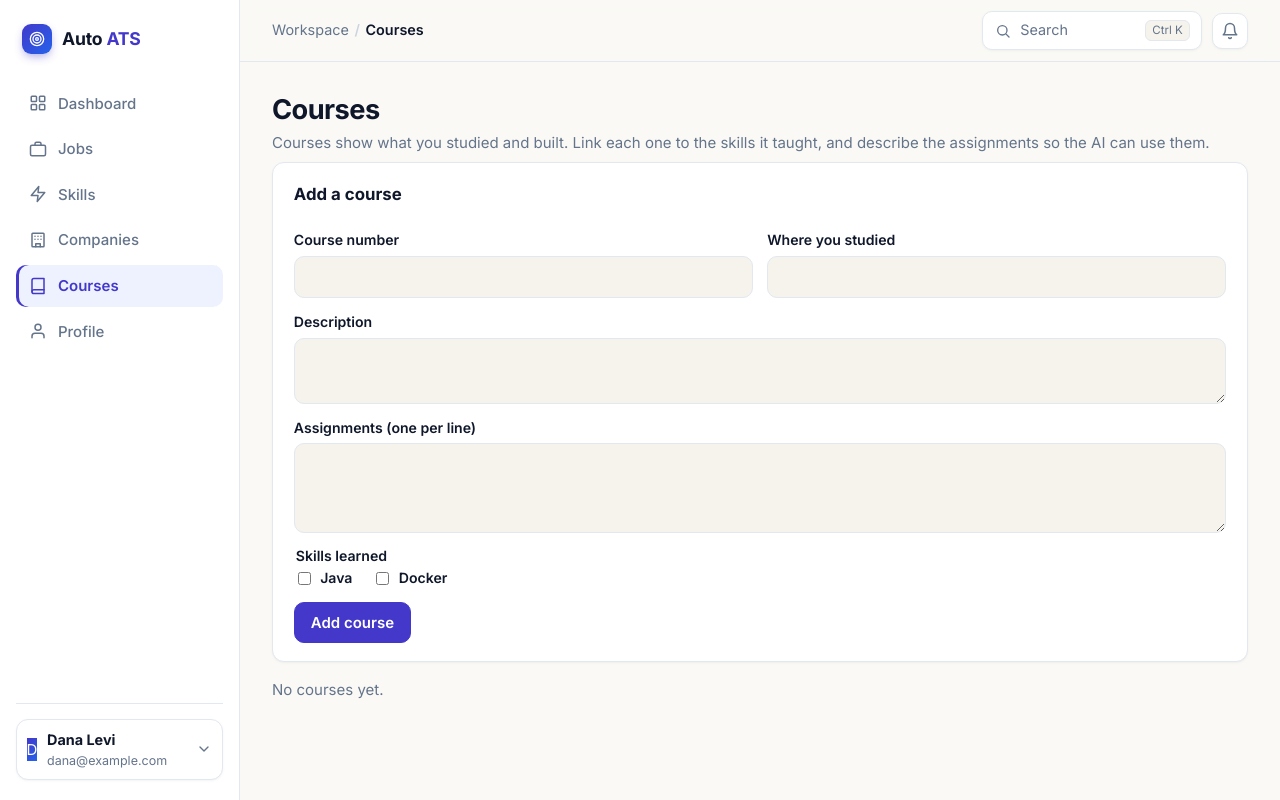
Test: CoursesPage › GivenBlankCourseNumber_WhenAdding_ThenErrorIsShownAndNothingIsSent
Check: the text "No courses yet." is shown, box [272,680,384,699]
What coordinates should you click on to do the following:
click the button "Add course"
I would click on:
 (352, 623)
Its box is [294,602,411,643].
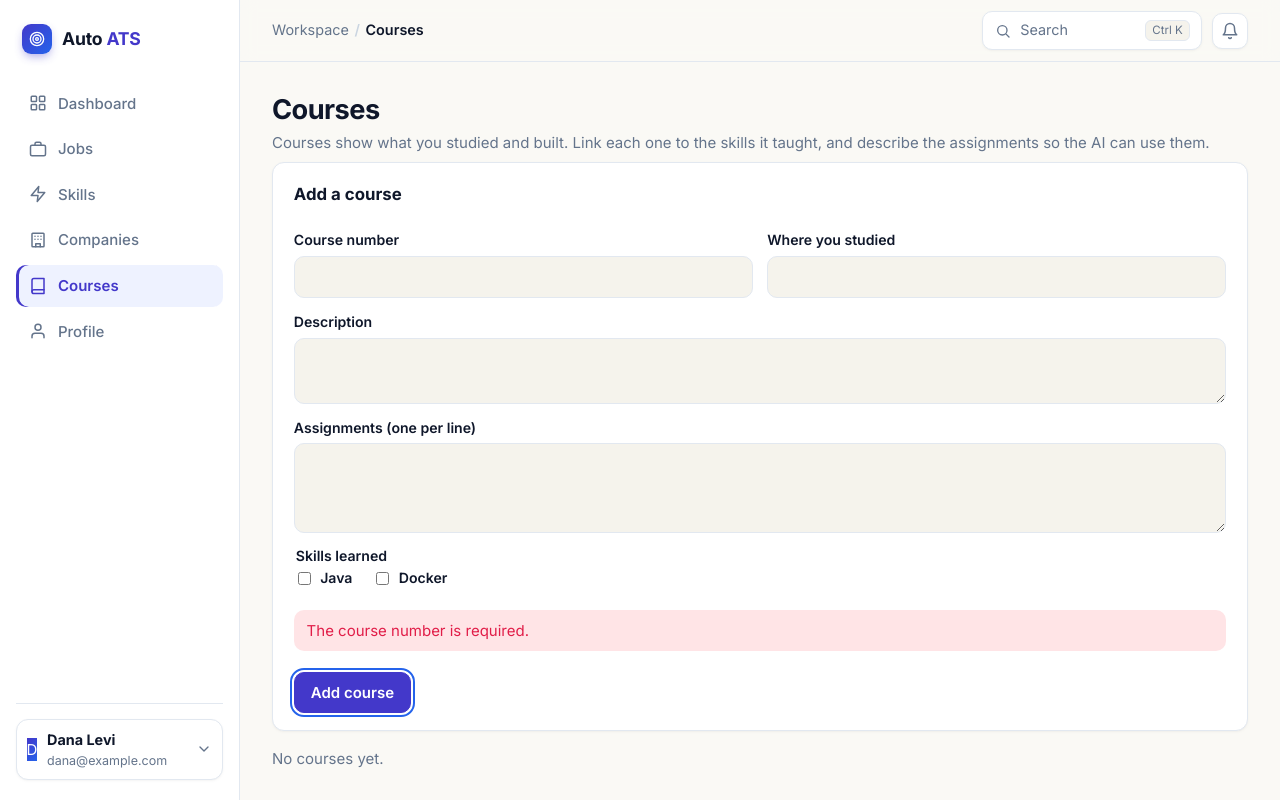
Check: the message reads "The course number is required.", box [307,621,529,640]
